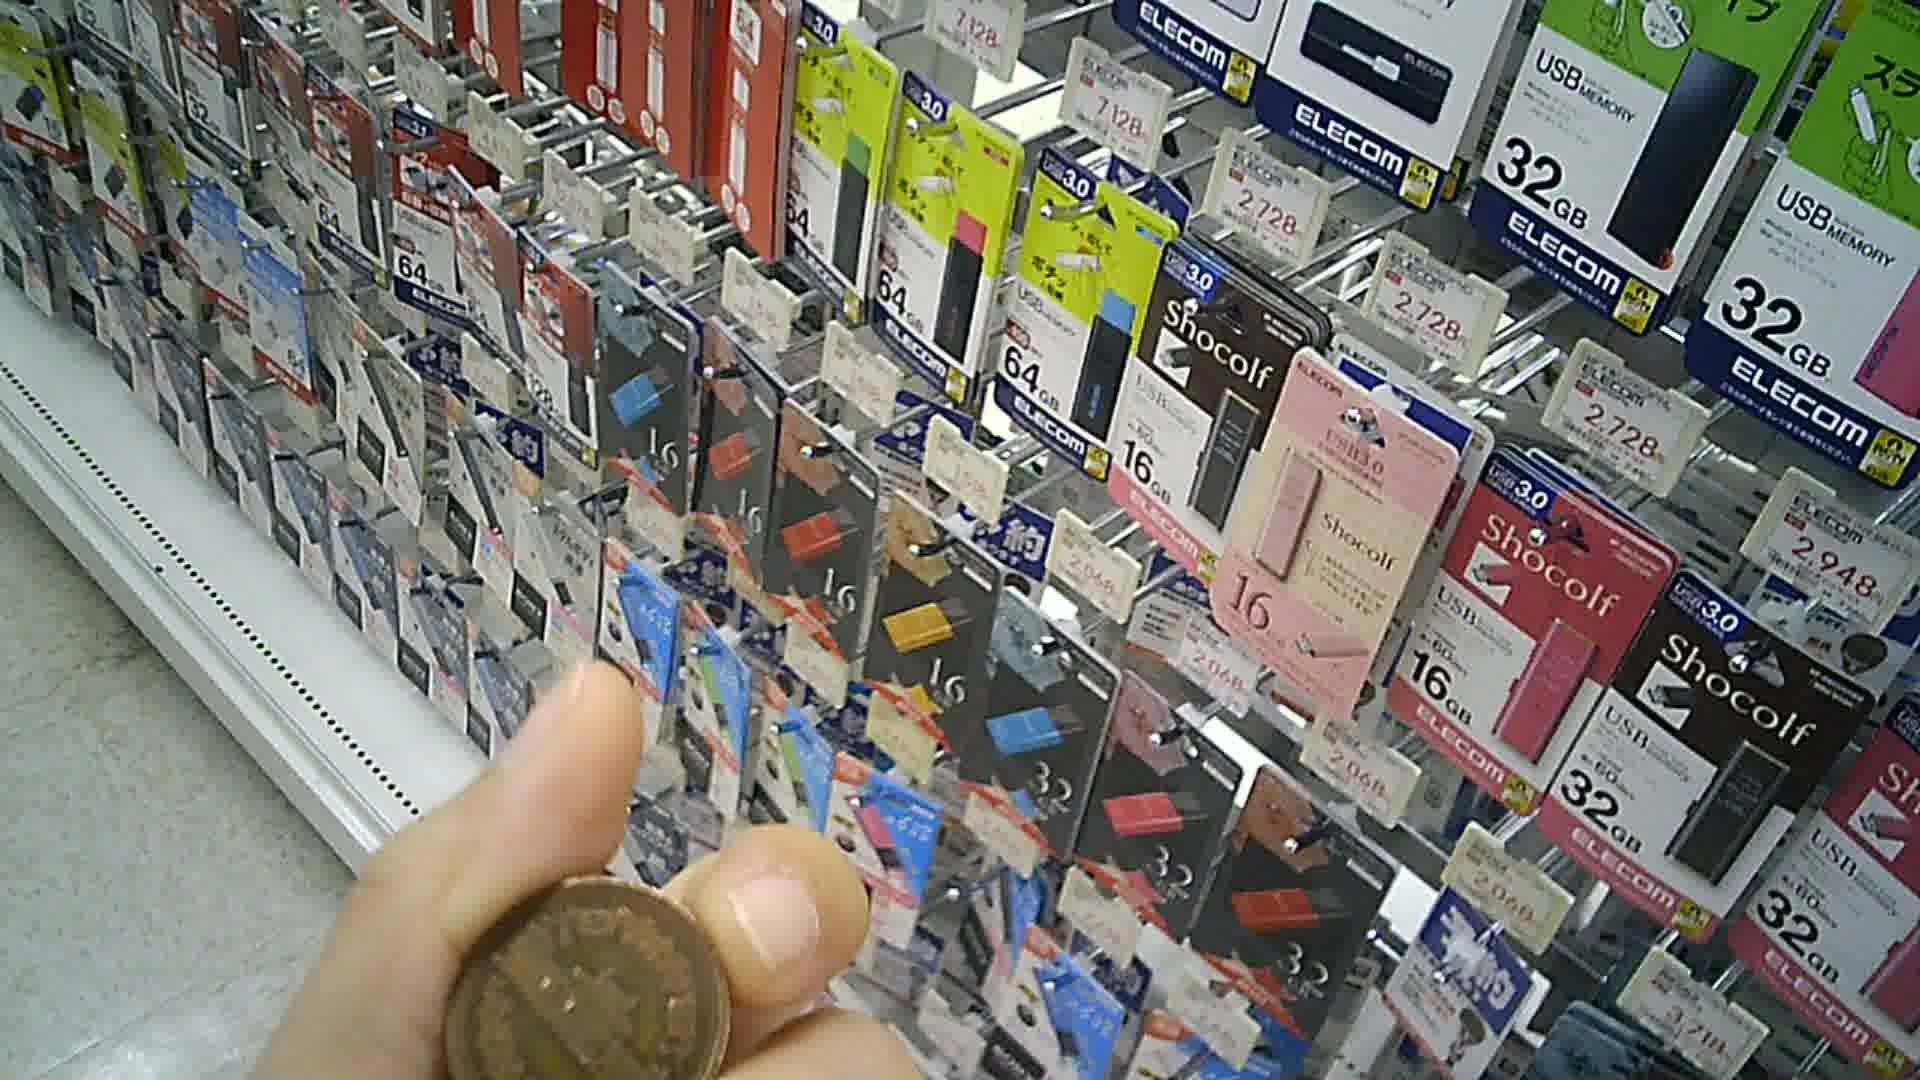10 Yen: (433, 881, 737, 1075)
